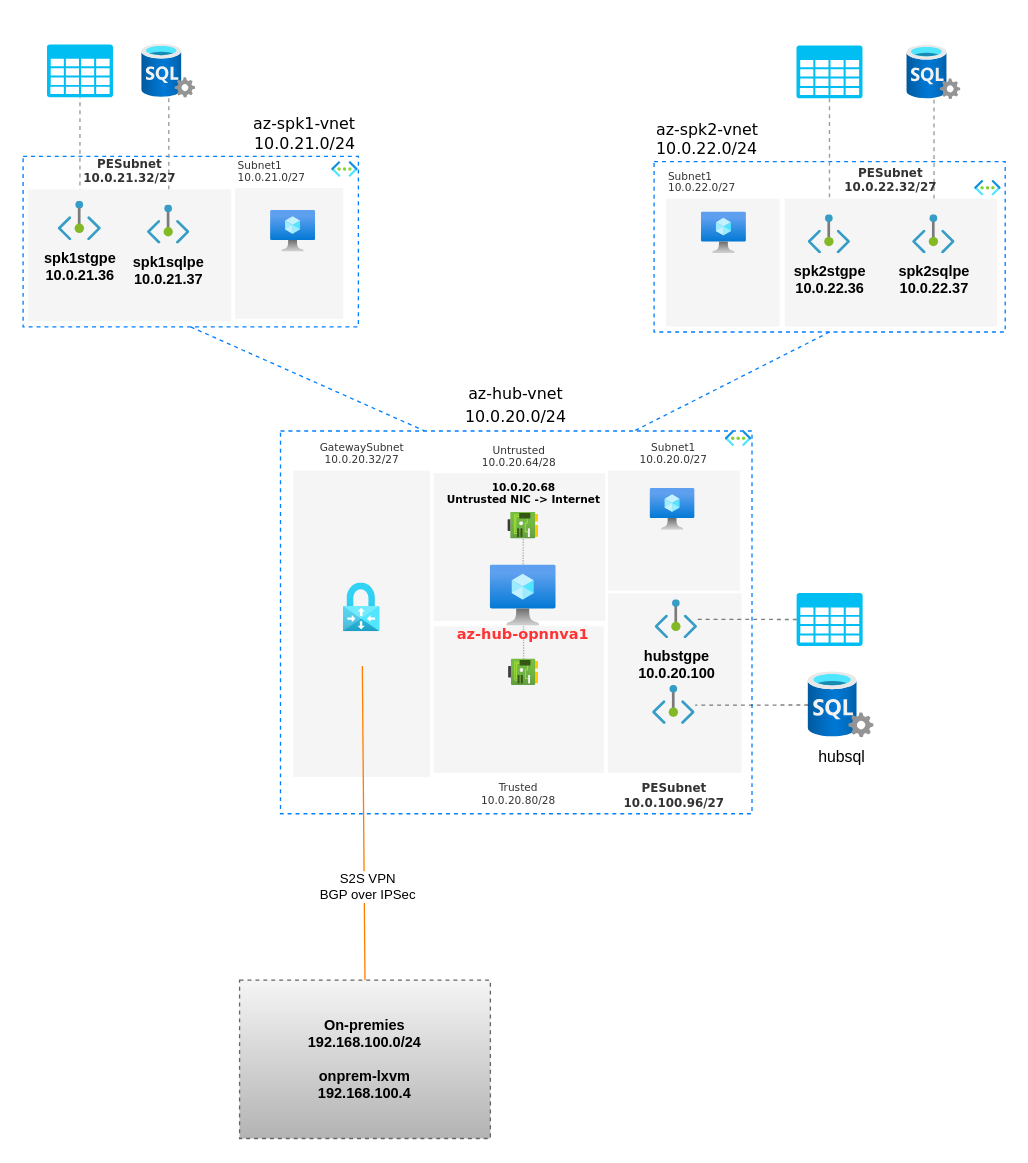
Some shapes in this 1028 by 1163 pixel diagram are drawn without their labels. Each missing label, with the centre of its shape:
"az-hub-lxvm 10.0.20.4" belongs at [672,509].
"az-hub-vpngw" belongs at [361,606].
"az-spk1-lxvm 10.0.21.4" belongs at [292,231].
"az-spk2-lxvm 10.0.22.4" belongs at [723,232].
"hubsqlpe 10.0.20.101" belongs at [673,704].
"hubstg" belongs at [829,618].
"spk1sql" belongs at [168,71].
"spk1stg" belongs at [79,70].
"spk2spg" belongs at [933,72].
"spk2stg" belongs at [829,71].
"Trusted-NIC 10.0.20.84" belongs at [523,672].
